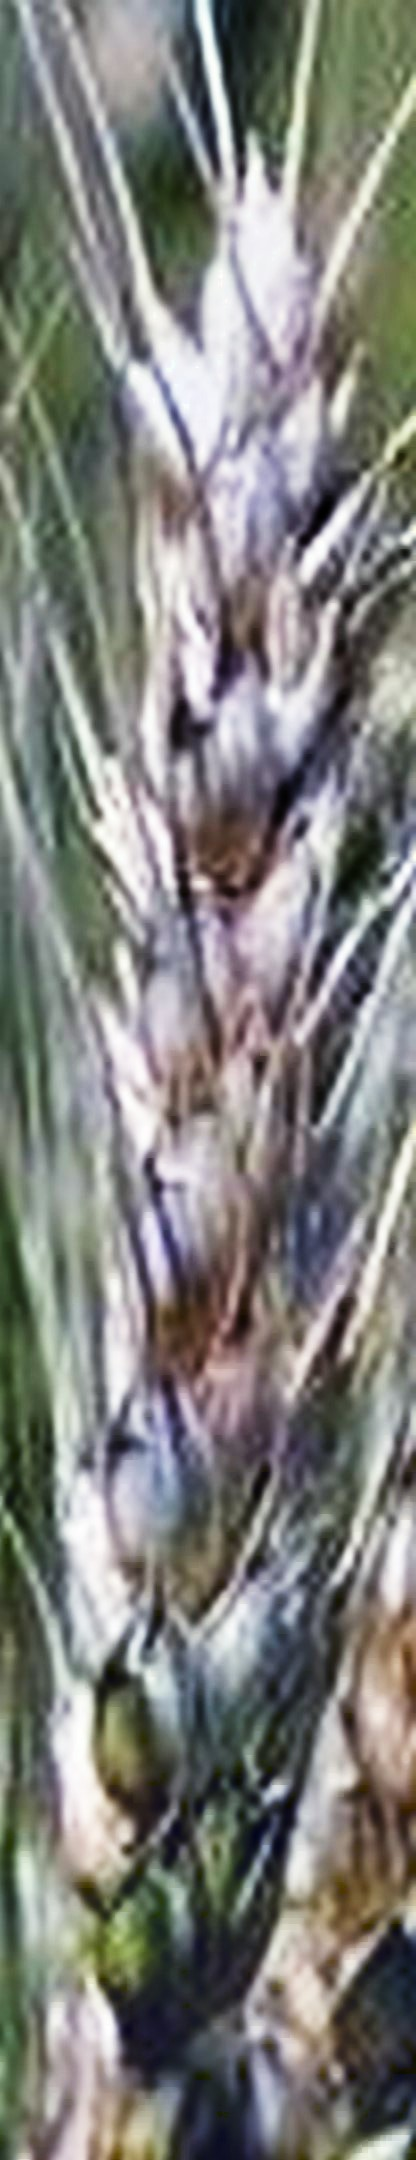Wheat scab: (11, 180, 416, 2022)
